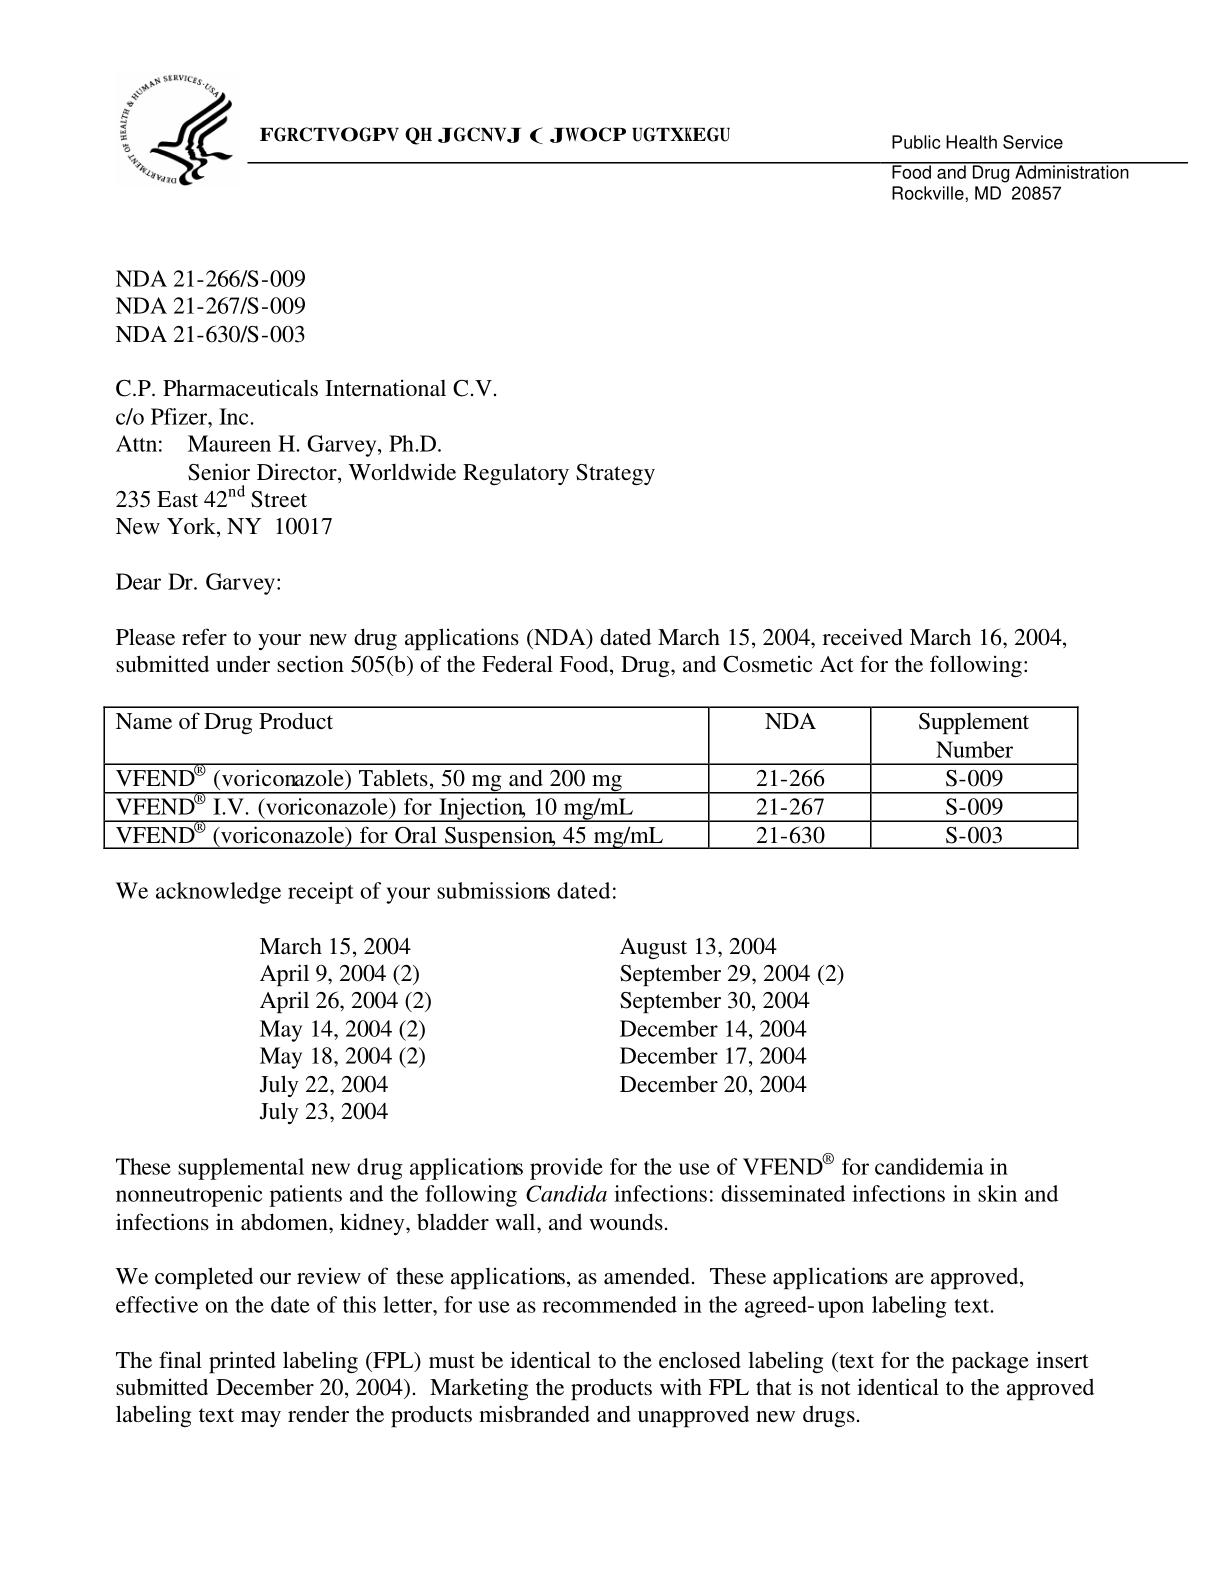full_lined: (102, 706, 1079, 850)
nolines: (255, 932, 843, 1126)
